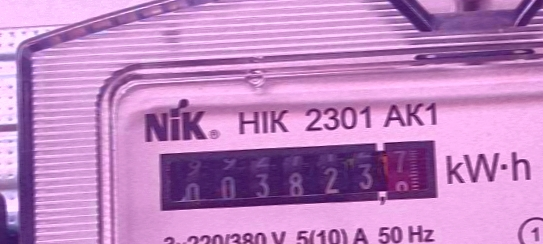0: (215, 173, 237, 201), (182, 179, 201, 203)
2: (320, 164, 341, 197)
3: (355, 161, 375, 192), (251, 170, 271, 200)
7: (391, 149, 409, 178)
8: (285, 169, 304, 198)
9: (182, 158, 202, 178)
screen: (150, 132, 442, 221)
